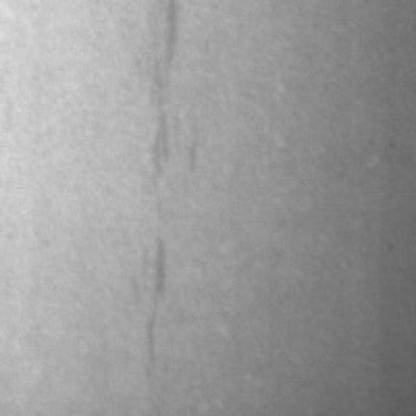inclusion: (141, 0, 195, 233), (131, 223, 181, 394)
